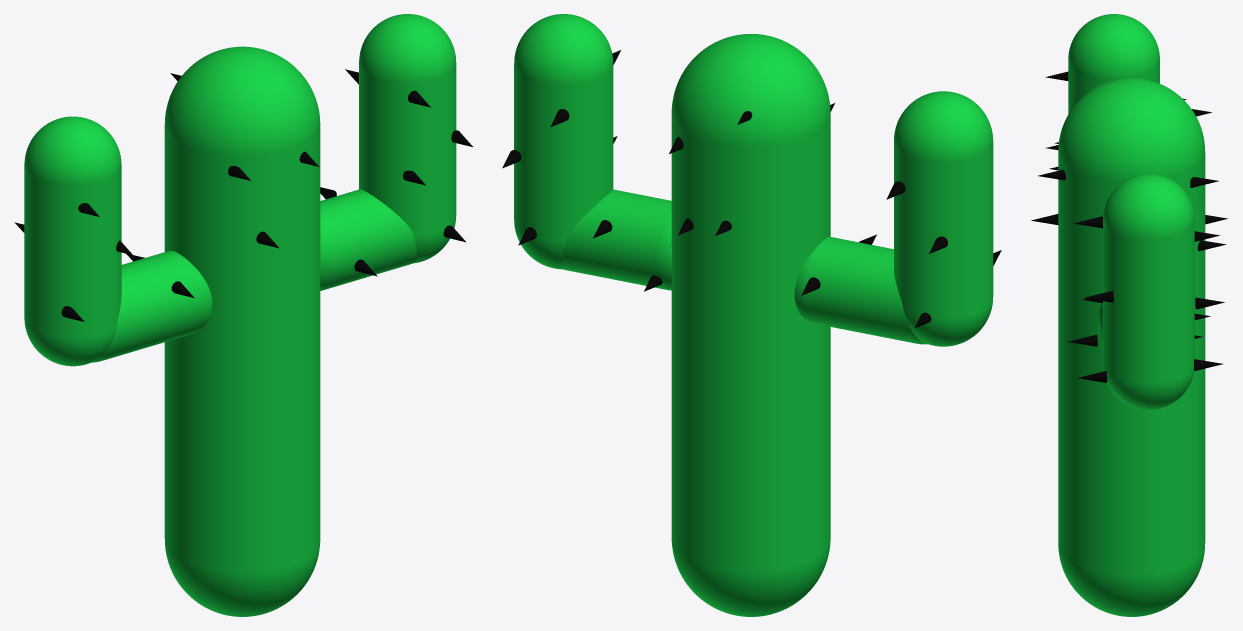
File: CactusBounce.fbx
The picture shows the model from 3 angles, left to right: view 1: azimuth 30°, elevation 25°; view 2: azimuth 150°, elevation 25°; view 3: azimuth 270°, elevation 25°; orthographic projection. The views are drawn at different scales.
Visible parts, largest first — view 1: root (×5); view 2: root (×5); view 3: root (×3).
Part boxes in pixels (bbox=[...]): root (×5): bbox=[24, 14, 456, 616]; root (×5): bbox=[514, 14, 993, 616]; root (×3): bbox=[1058, 14, 1205, 616].
Bounding box in the file's own units: 0.224 × 0.2722 × 0.0931.
30 materials, 5 textured.
